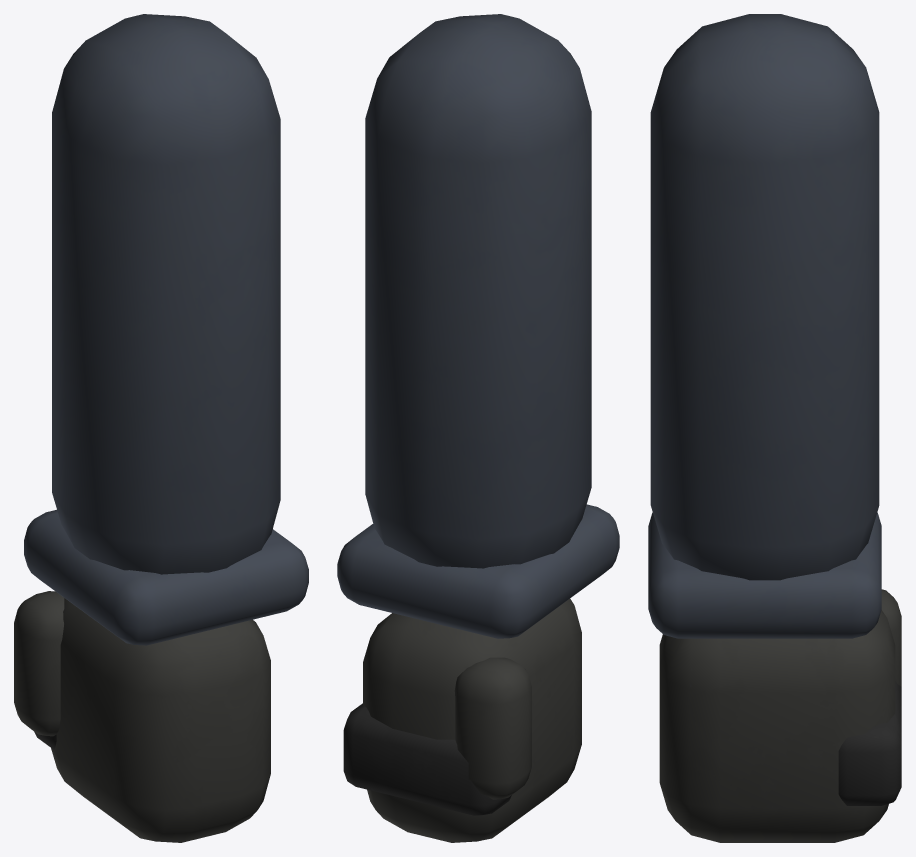
The model's file is SM_OperatorBForearm.fbx.
3 renders of one model, left to right at view 1: azimuth 30°, elevation 25°; view 2: azimuth 150°, elevation 25°; view 3: azimuth 270°, elevation 25°, orthographic. The views are drawn at different scales.
Parts seen in each view (by area): view 1: SM_OperatorBForearm; view 2: SM_OperatorBForearm; view 3: SM_OperatorBForearm.
Boxes of the visible parts, left/top/right/bottom form: SM_OperatorBForearm: left=14, top=14, right=308, bottom=842; SM_OperatorBForearm: left=337, top=14, right=619, bottom=842; SM_OperatorBForearm: left=648, top=14, right=901, bottom=842.
Bounding box in the file's own units: 0.09 × 0.355 × 0.102.
1 material, 1 textured.
